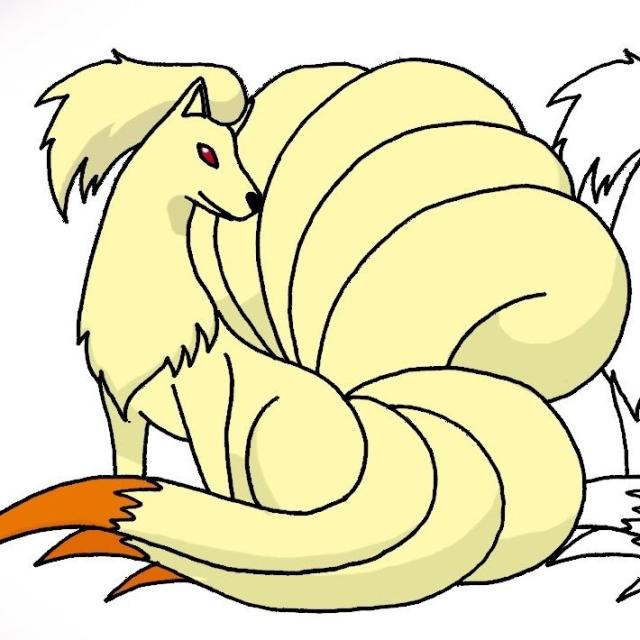Ninetales: (69, 56, 575, 612)
